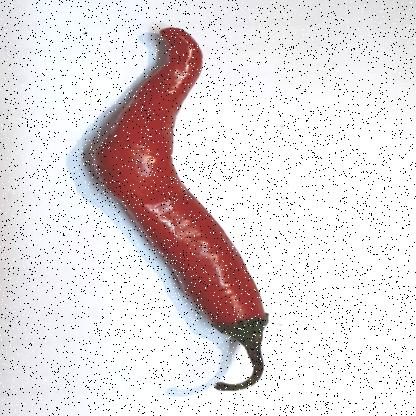chili: (86, 25, 274, 397)
